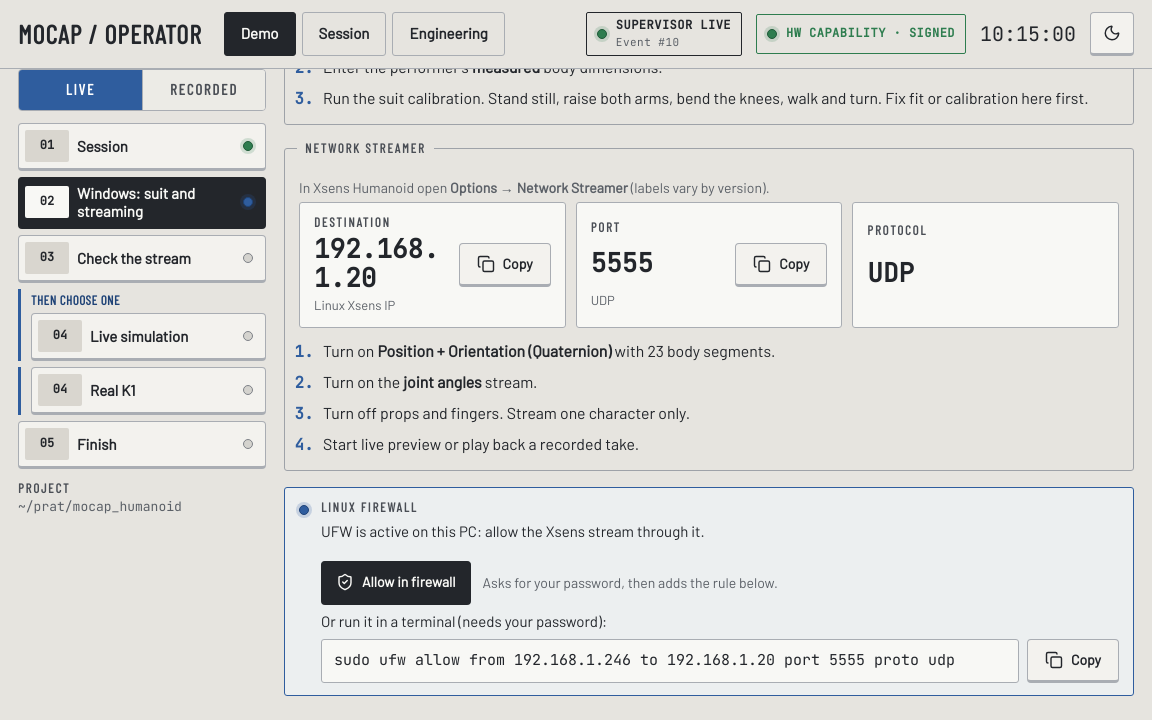
Scenario: Setup desktop tools (Linux checkout console) › allows the stream in the firewall and reports each outcome
(page scrolled)
Expected: the text "UFW is active on this PC: allow the Xsens stream through it." is shown, [321,522,705,540]
Click the button "Allow in firewall".
click(396, 583)  # box [321,561,470,605]
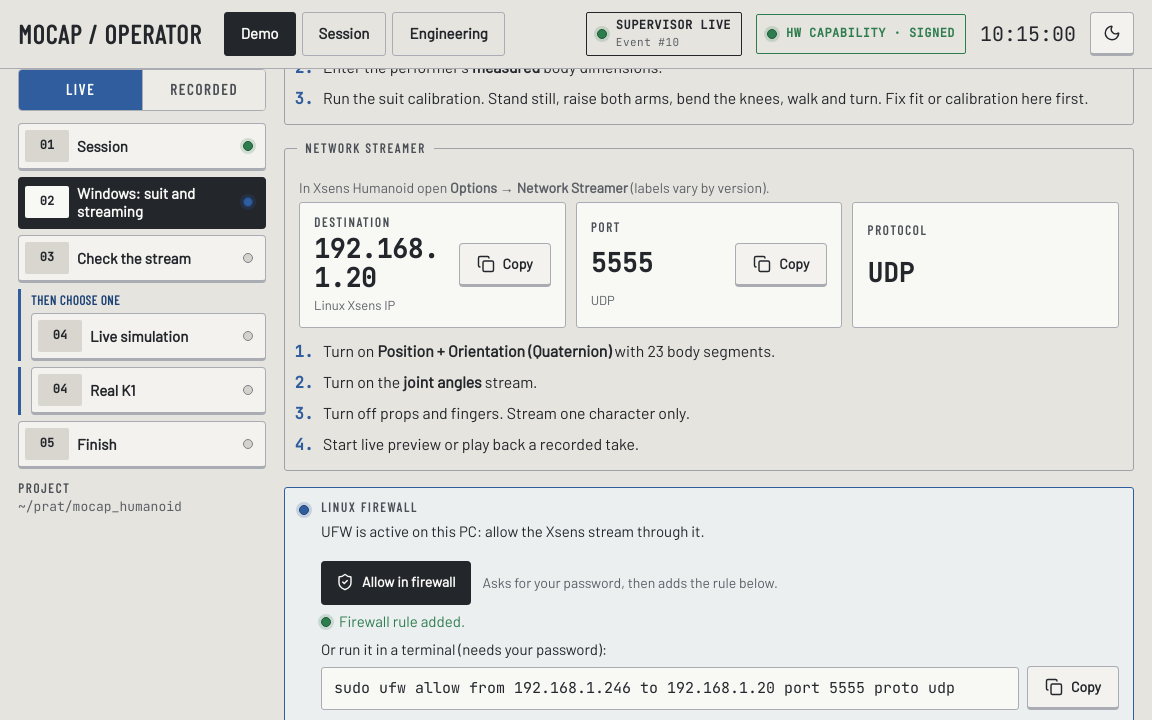
Expected: the text "Firewall rule added." is shown, [339,611,465,633]
Click the button "Allow in firewall".
click(396, 583)  # box [321,561,470,605]
(page scrolled)
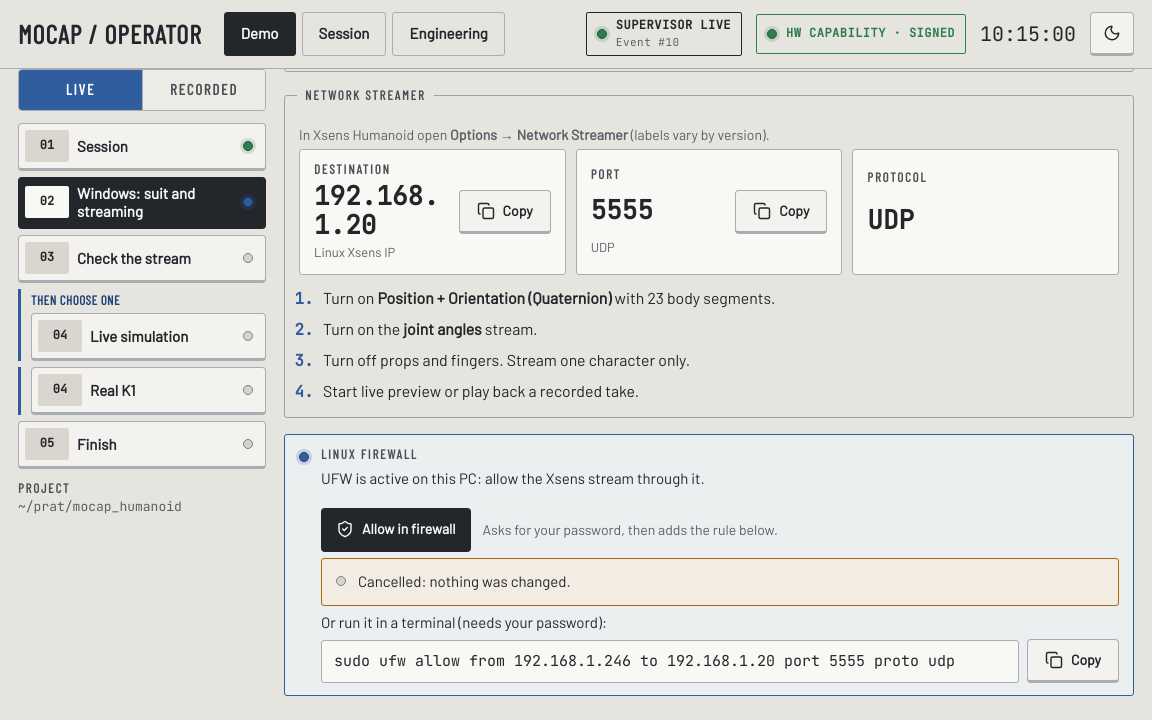
Expected: the button with aria-label "Copy firewall command" is shown, [1027,639,1119,683]
Expected: the text "Cancelled: nothing was changed." is shown, [358,572,571,590]
